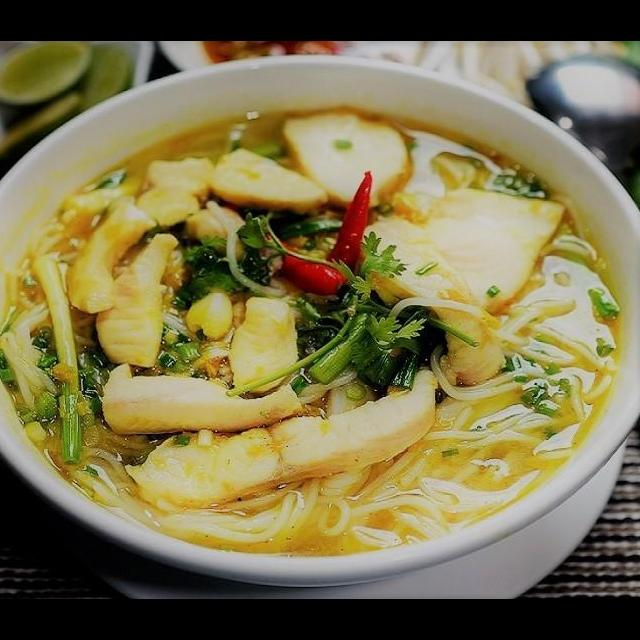bun: (93, 88, 482, 177), (15, 177, 211, 345), (575, 195, 640, 331)
bun ca: (8, 88, 640, 582)
ca: (191, 118, 521, 279), (330, 199, 546, 282), (453, 264, 553, 412), (335, 236, 419, 350)
